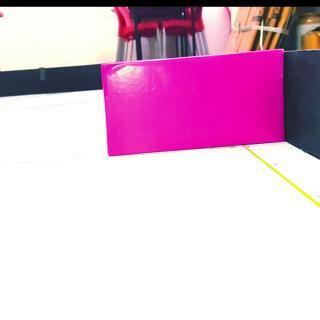xparking: (104, 62, 284, 146)
